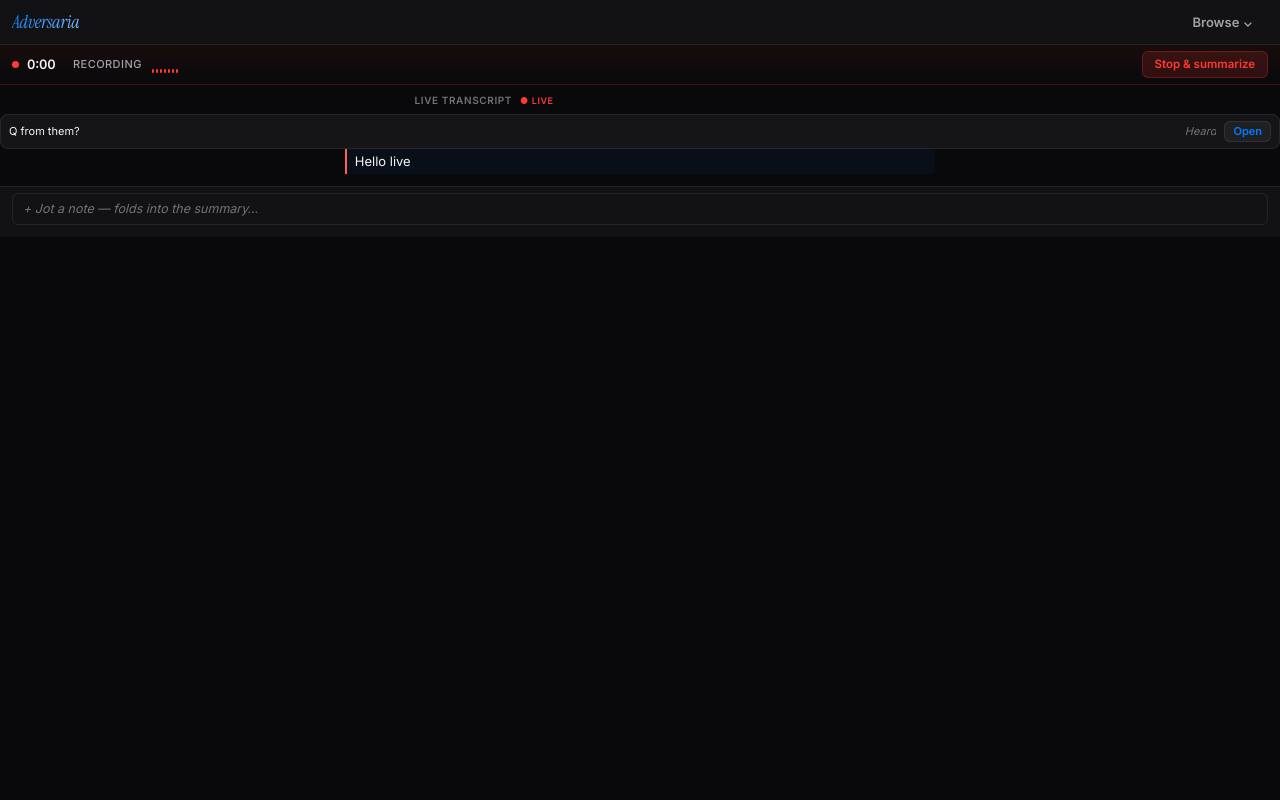
Test: RecordingCompanion transcript variant › strip visible, Open displays sheet, transcript remains mounted, Escape closes
The width and height of the screenshot is (1280, 800).
Expected: the element with test id "copilot-answer-strip" is shown, [0,114,1279,149]
Expected: the text "Hello live" is shown, [345,149,935,174]
Click the button with aria-label "Open Copilot" at (1248, 132), box [1224,121,1271,142]
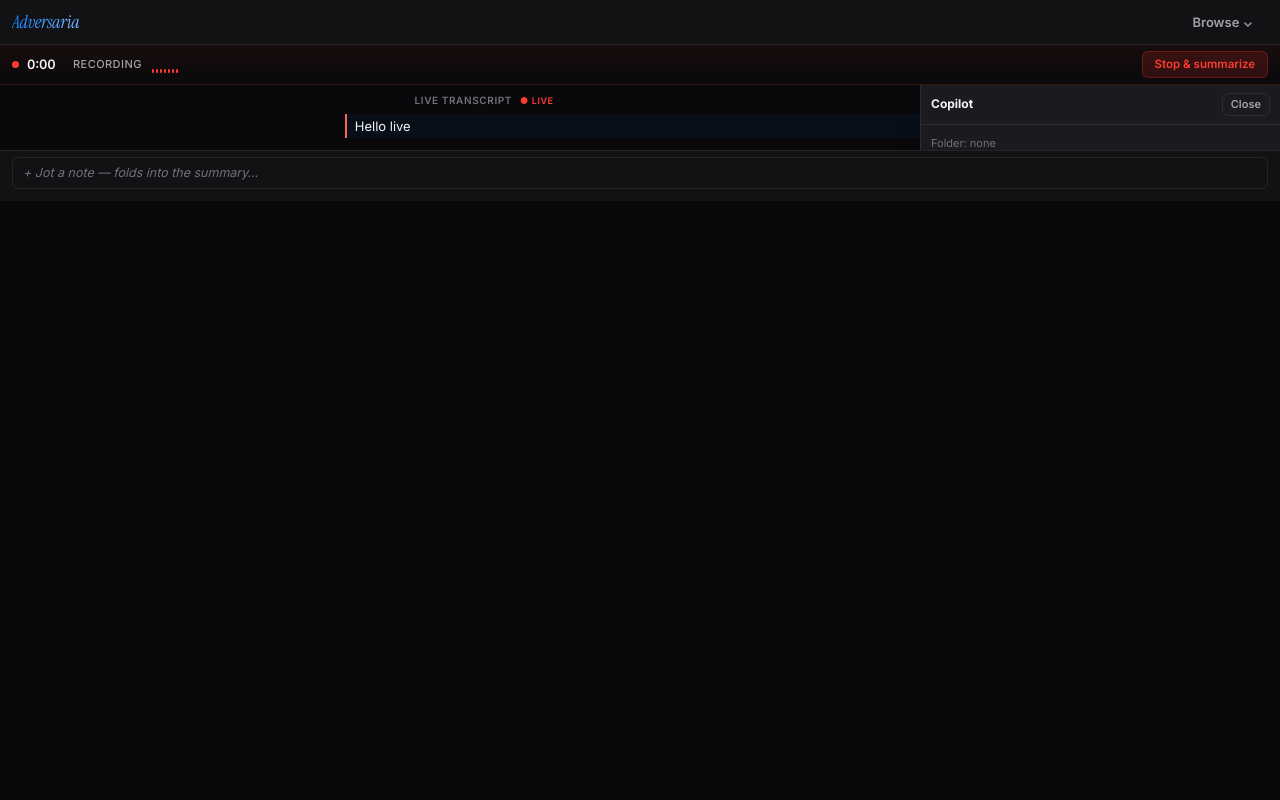
Expected: the text "Hello live" is shown, [345,114,935,138]
Now the dialog "Copilot" is shown, box [920,85,1279,150]
Press Escape
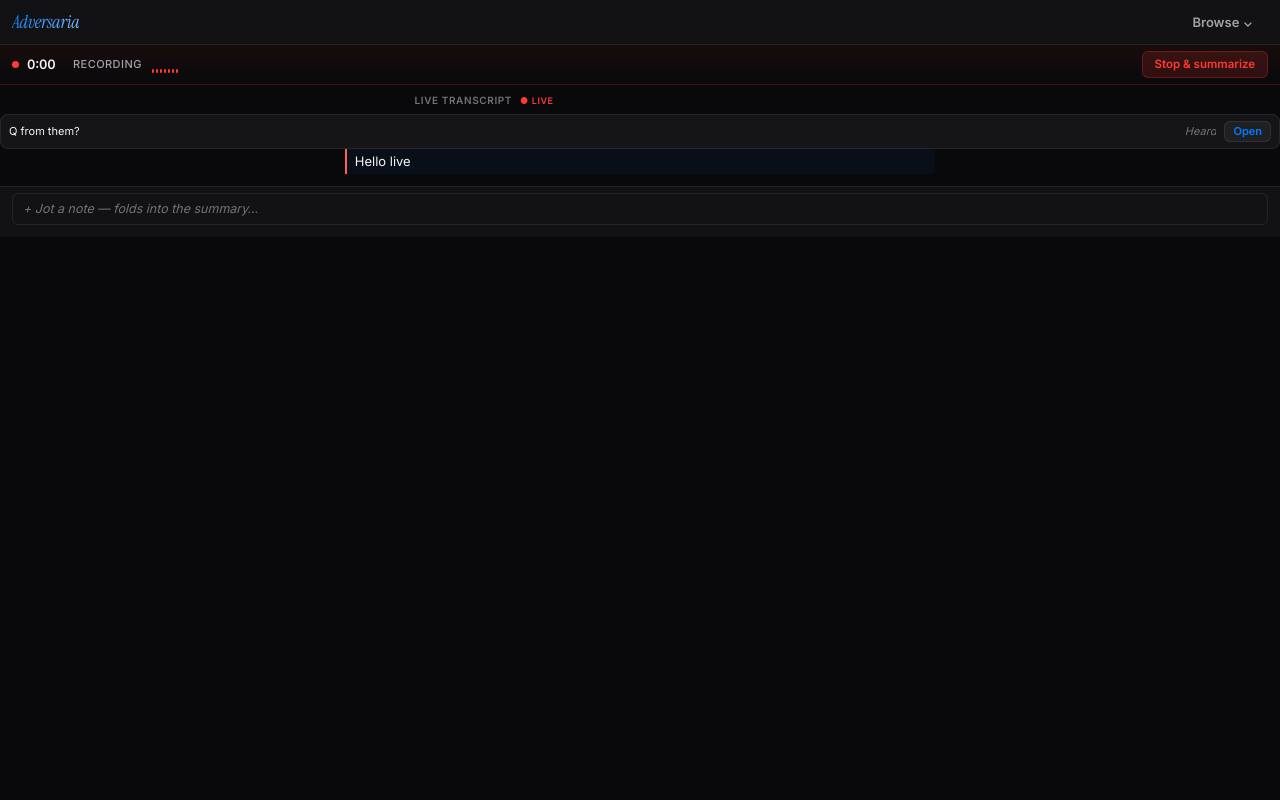
Expected: the text "Hello live" is shown, [345,149,935,174]
Now the text "Copilot" is gone
